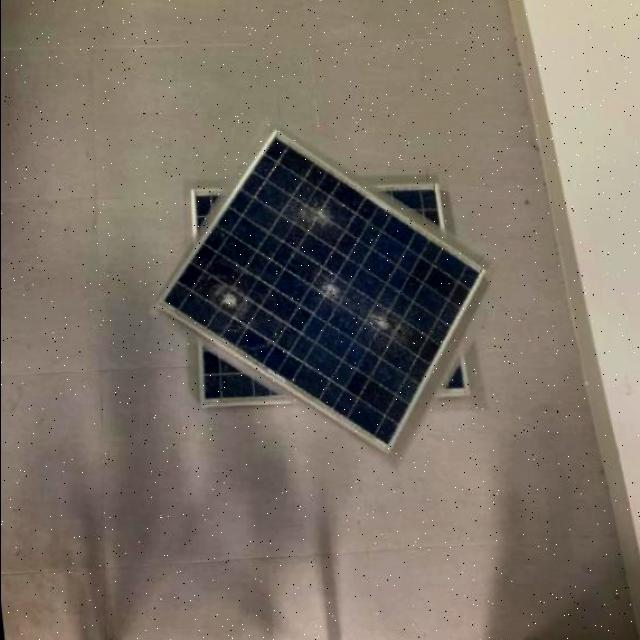Anomaly Solar Panel: (161, 130, 483, 453)
Structural Damage: (294, 245, 421, 366), (278, 175, 362, 264), (195, 266, 266, 338)
